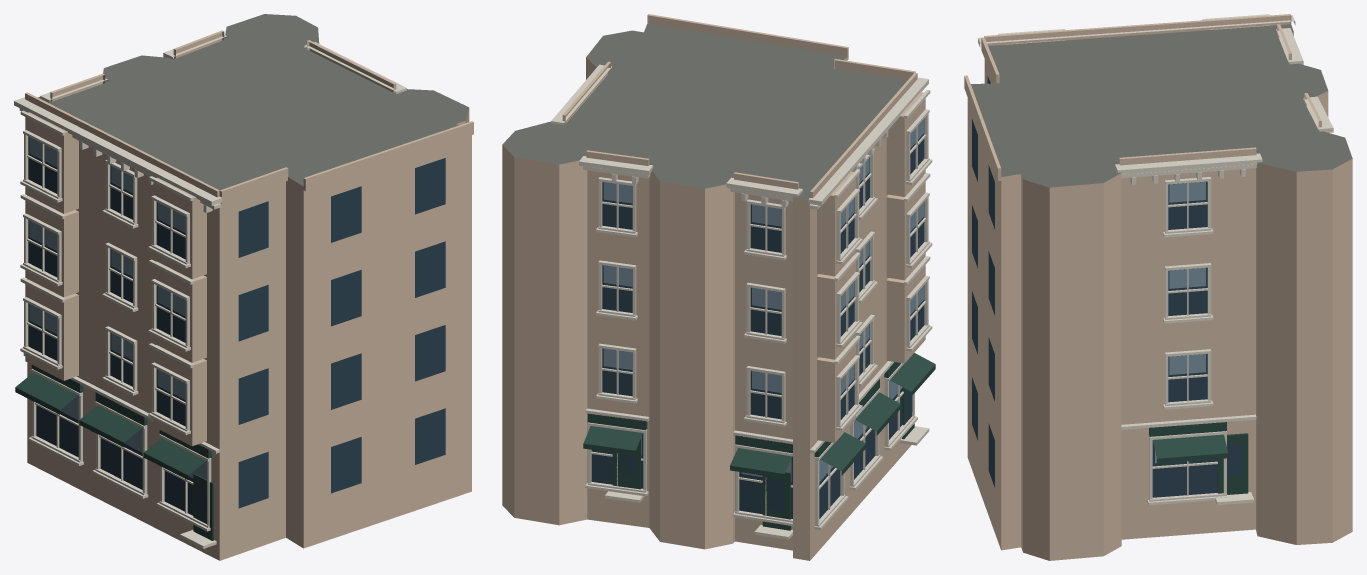
3 views of the same model, side by side, from view 1: azimuth 30°, elevation 25°; view 2: azimuth 150°, elevation 25°; view 3: azimuth 270°, elevation 25° (orthographic). The views are drawn at different scales.
Visible parts, largest first — view 1: Footprint 0 / surface 2, Footprint 0 / surface 1, Inset glazing, Cornices and window frames, Facade bay volumes, Storefronts and doors, Sky reflection panels; view 2: Footprint 0 / surface 2, Footprint 0 / surface 1, Cornices and window frames, Facade bay volumes, Inset glazing, Storefronts and doors, Sky reflection panels; view 3: Footprint 0 / surface 2, Footprint 0 / surface 1, Cornices and window frames, Inset glazing, Facade bay volumes, Storefronts and doors, Sky reflection panels.
Part boxes in pixels (x1,y1,x2,y2): Footprint 0 / surface 2: (27,48,471,560); Footprint 0 / surface 1: (38,14,469,190); Inset glazing: (28,136,445,519); Cornices and window frames: (14,35,406,548); Facade bay volumes: (25,30,473,446); Storefronts and doors: (15,365,213,540); Sky reflection panels: (29,137,206,479); Footprint 0 / surface 2: (502,57,911,560); Footprint 0 / surface 1: (502,24,907,199); Cornices and window frames: (551,64,932,539); Facade bay volumes: (562,14,925,442); Inset glazing: (591,118,924,518); Storefronts and doors: (583,353,935,530); Sky reflection panels: (603,119,923,481); Footprint 0 / surface 2: (967,32,1352,560); Footprint 0 / surface 1: (971,24,1352,187); Cornices and window frames: (978,14,1333,505); Inset glazing: (972,76,1241,497); Facade bay volumes: (964,14,1321,180); Storefronts and doors: (1149,422,1248,494); Sky reflection panels: (1155,181,1205,463).
Bounding box in the file's own units: 14.84 × 15.15 × 13.95.
